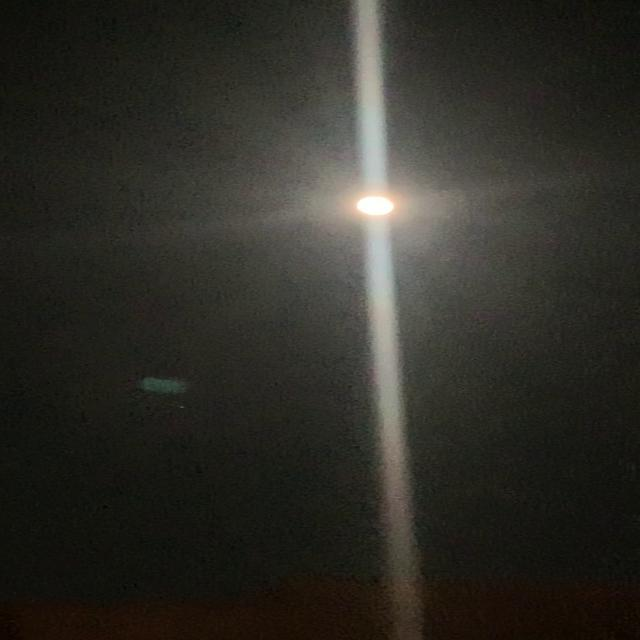moon: (342, 186, 418, 228)
